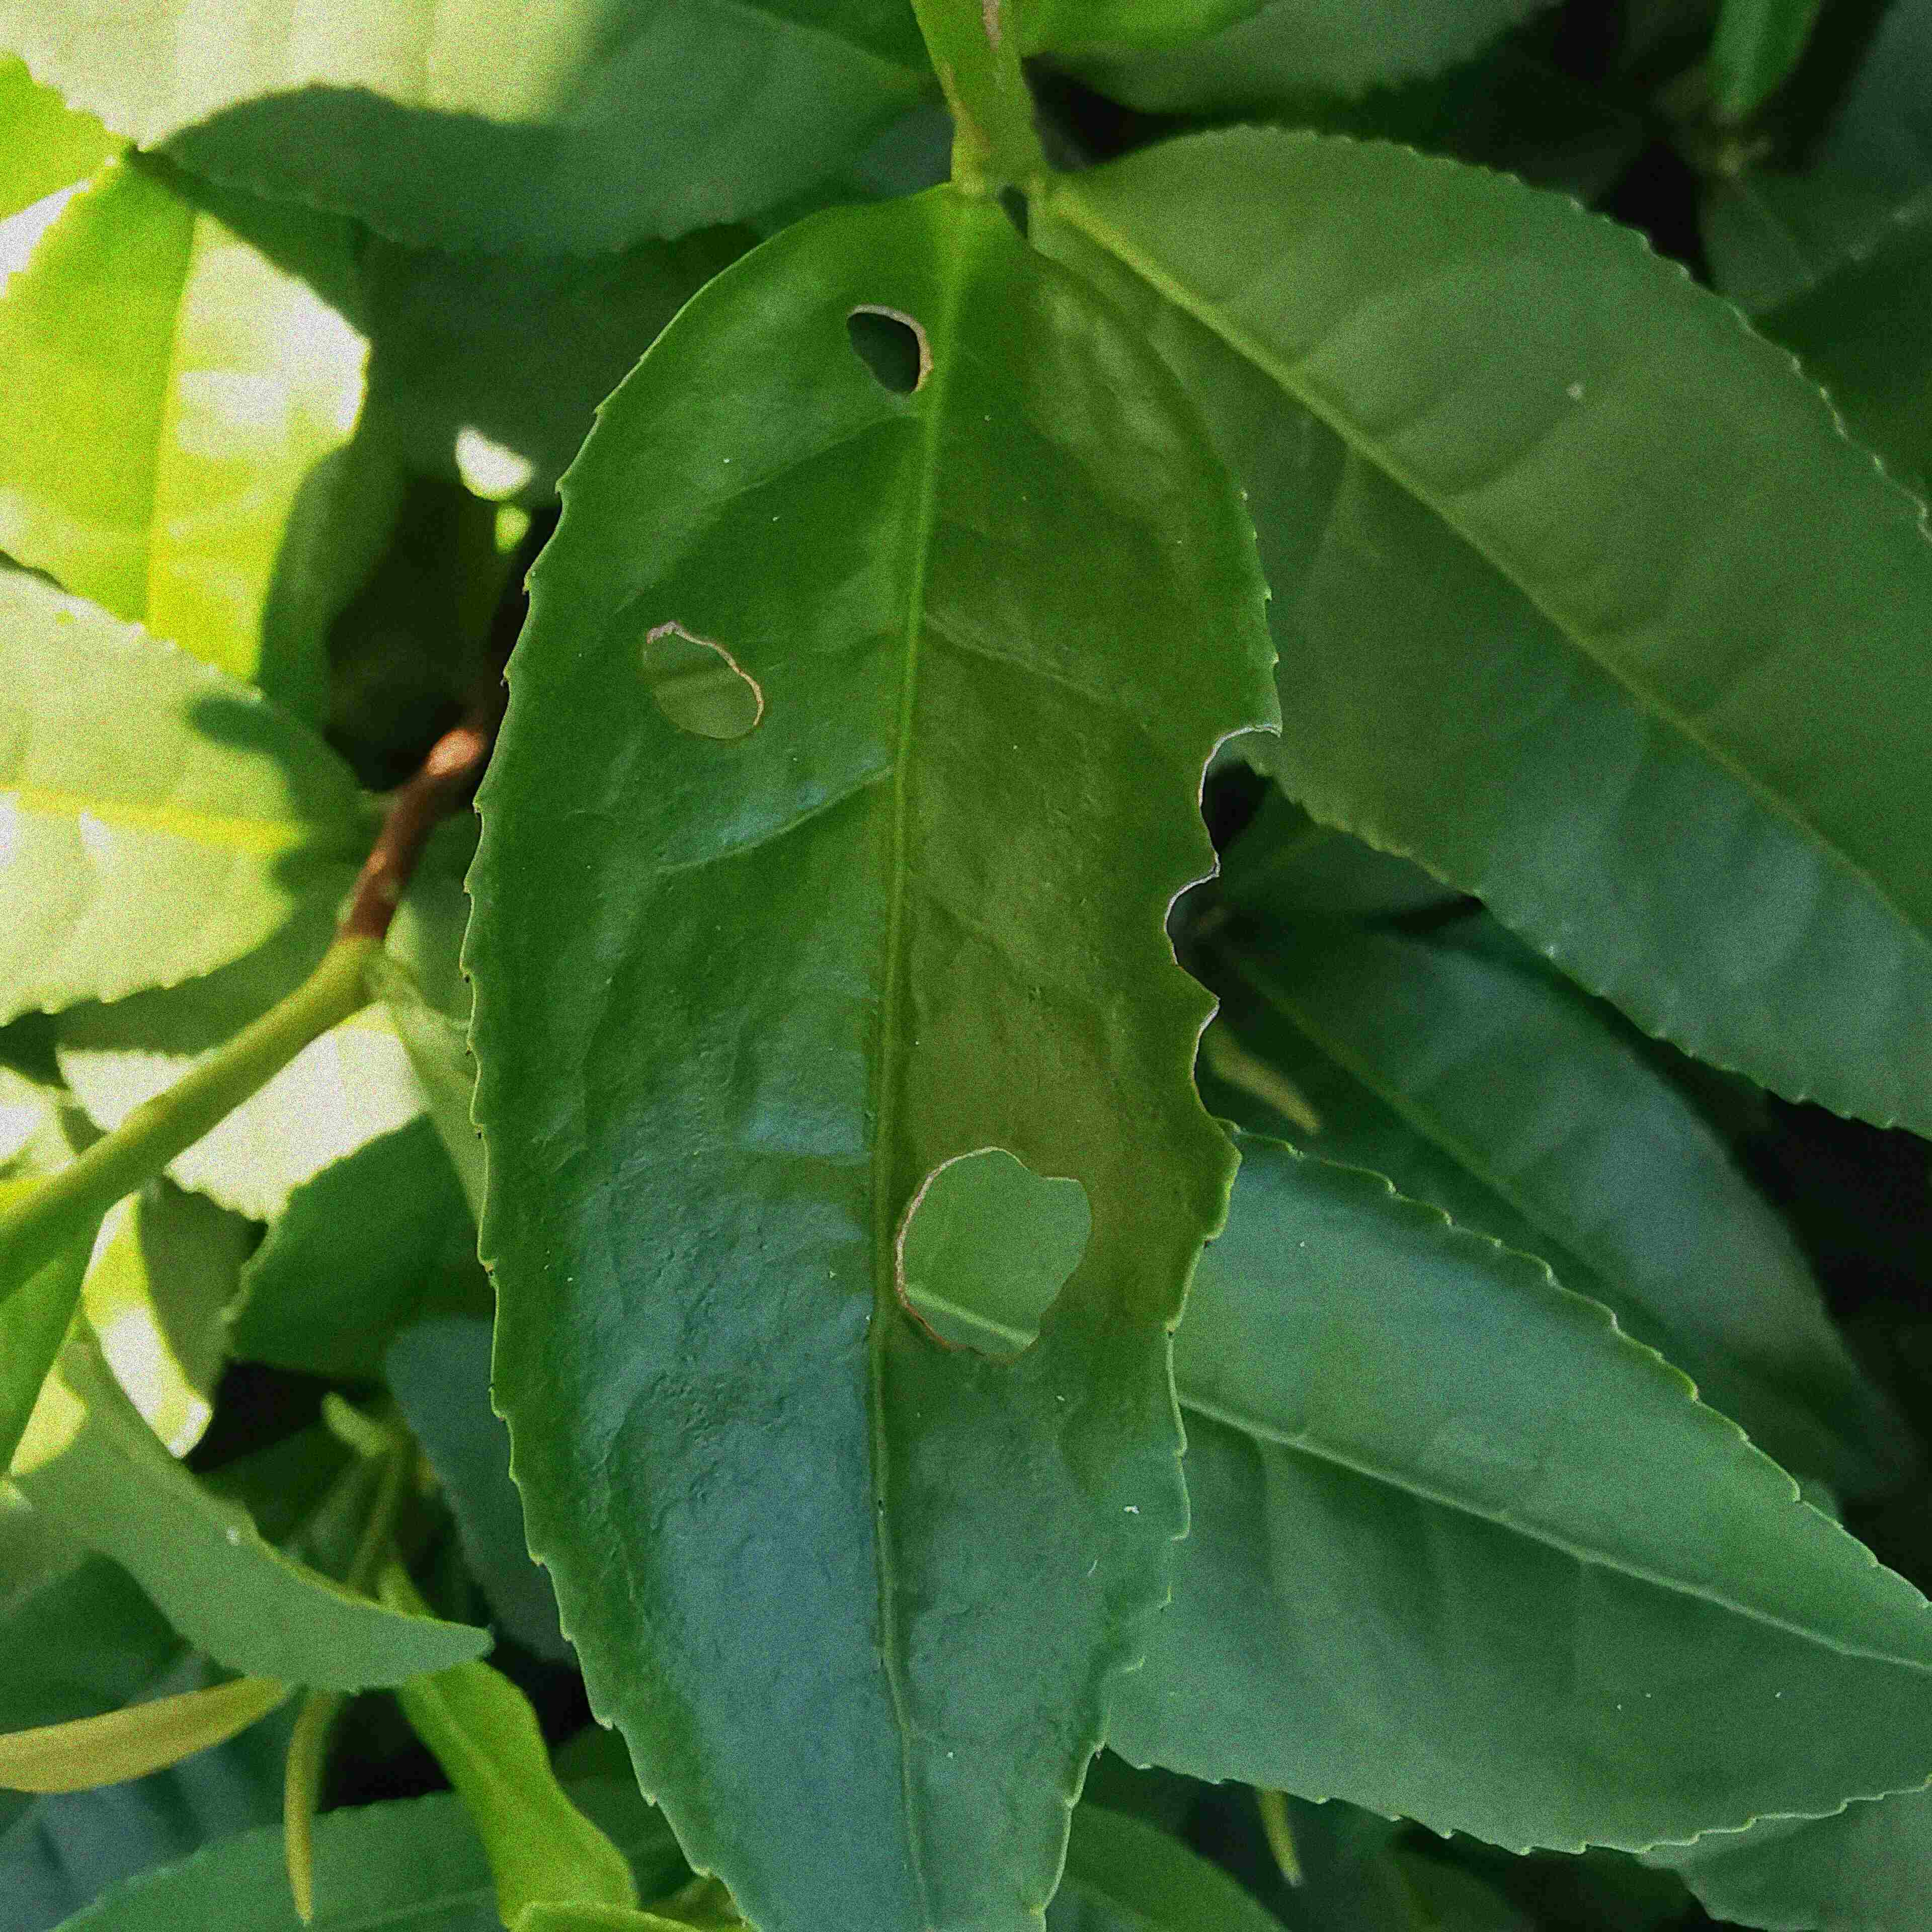chihuo_high: (455, 180, 1284, 1927)
